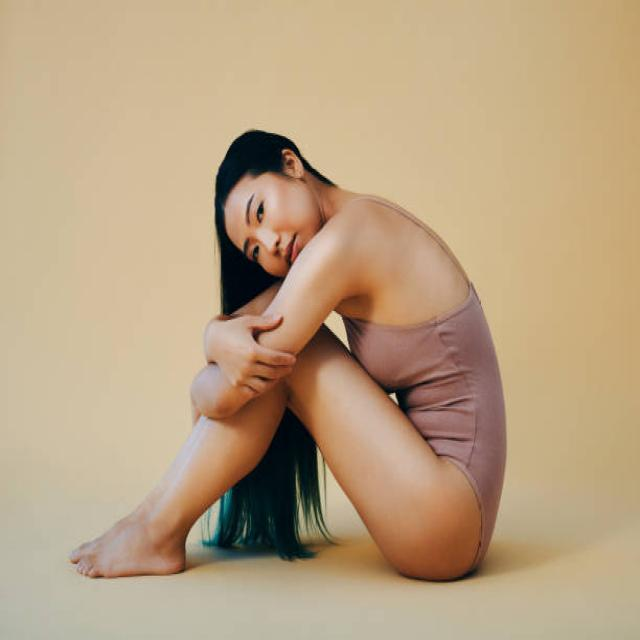Edited images: (63, 117, 525, 596)
